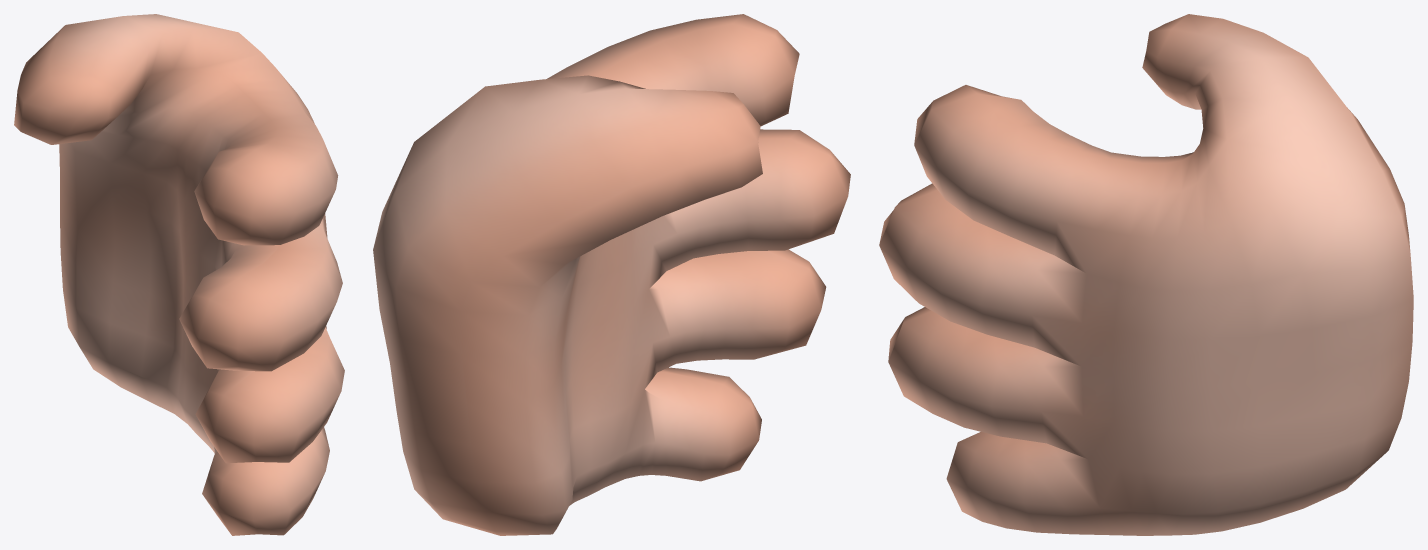
Rendered from LeftHand.fbx.
3 views of the same model, side by side, from view 1: azimuth 30°, elevation 25°; view 2: azimuth 150°, elevation 25°; view 3: azimuth 270°, elevation 25° (orthographic). The views are drawn at different scales.
Parts seen in each view (by area): view 1: LeftHand; view 2: LeftHand; view 3: LeftHand.
Part boxes in pixels (box(x1,y1,x2,y2)): LeftHand: box(14, 14, 344, 535); LeftHand: box(373, 14, 850, 535); LeftHand: box(879, 14, 1413, 535).
Bounding box in the file's own units: 21.77 × 30.73 × 32.68.
